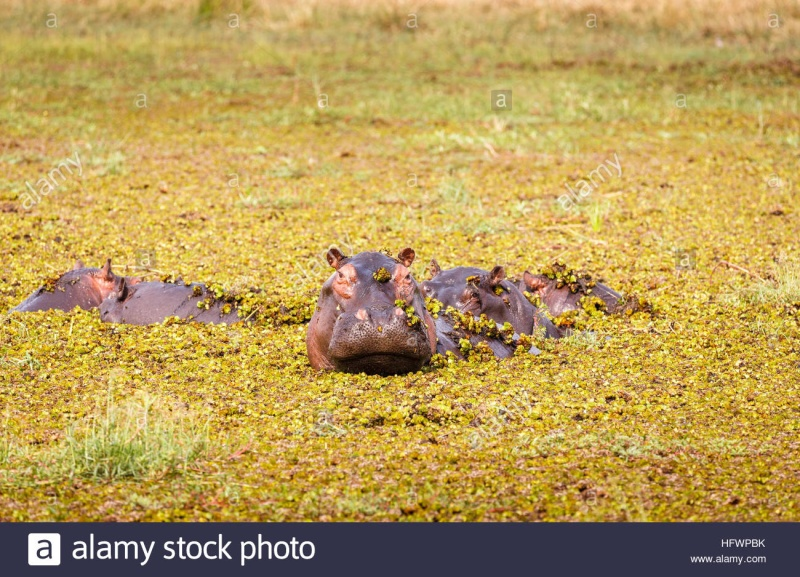hipopotamo: (296, 239, 447, 382)
